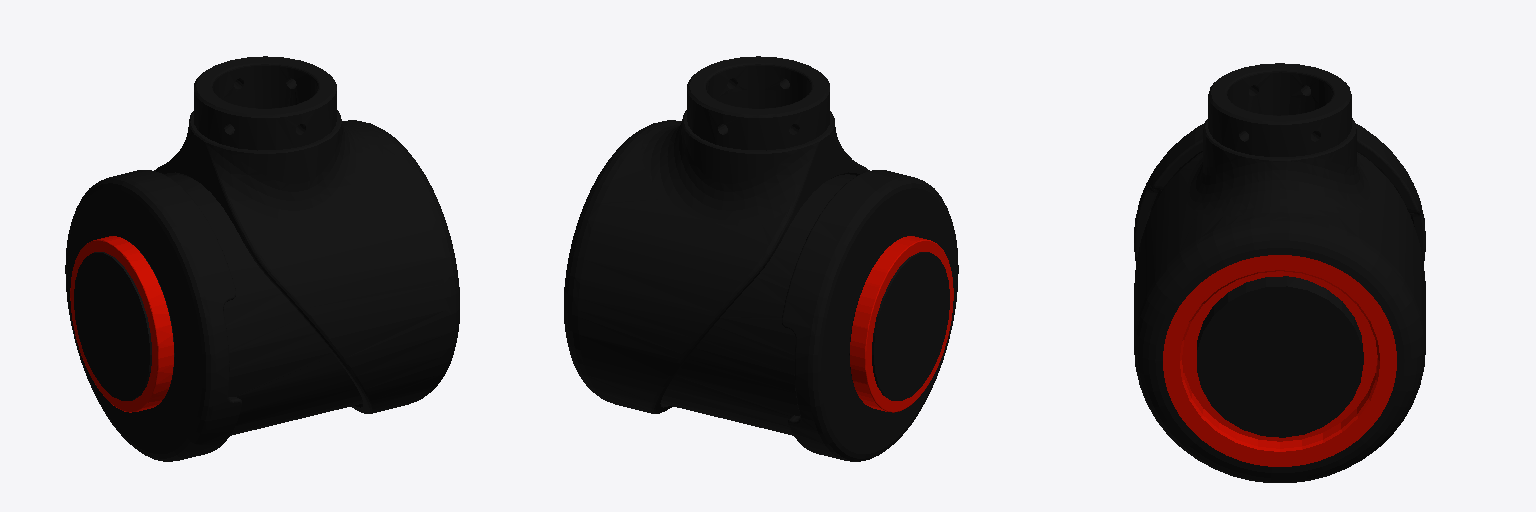
The picture shows the model from 3 angles: view 1: azimuth 30°, elevation 25°; view 2: azimuth 150°, elevation 25°; view 3: azimuth 270°, elevation 25°; orthographic projection.
Parts seen in each view (by area): view 1: AR1; view 2: AR1; view 3: AR1.
Boxes of the visible parts, <box> form: AR1: <box>65,56,459,461</box>; AR1: <box>564,56,958,461</box>; AR1: <box>1134,63,1425,482</box>.
Size of the model in its own units: 0.0695 by 0.0775 by 0.061.